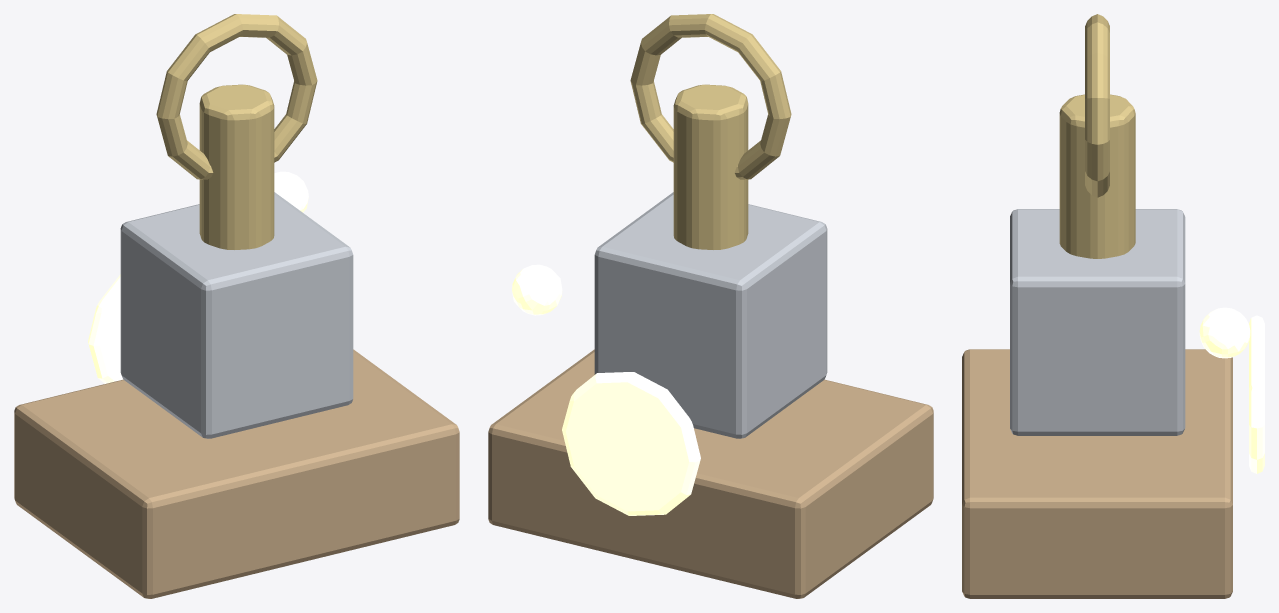
Rendered from turret_mint.glb.
3 renders of one model, left to right at view 1: azimuth 30°, elevation 25°; view 2: azimuth 150°, elevation 25°; view 3: azimuth 270°, elevation 25°, orthographic.
Parts seen in each view (by area): view 1: turret_mint; view 2: turret_mint; view 3: turret_mint.
Boxes of the visible parts, left/top/right/bottom form: turret_mint: left=14, top=14, right=459, bottom=598; turret_mint: left=488, top=14, right=933, bottom=598; turret_mint: left=962, top=14, right=1264, bottom=598.
Bounding box in the file's own units: 0.46 × 0.6958 × 0.38.
